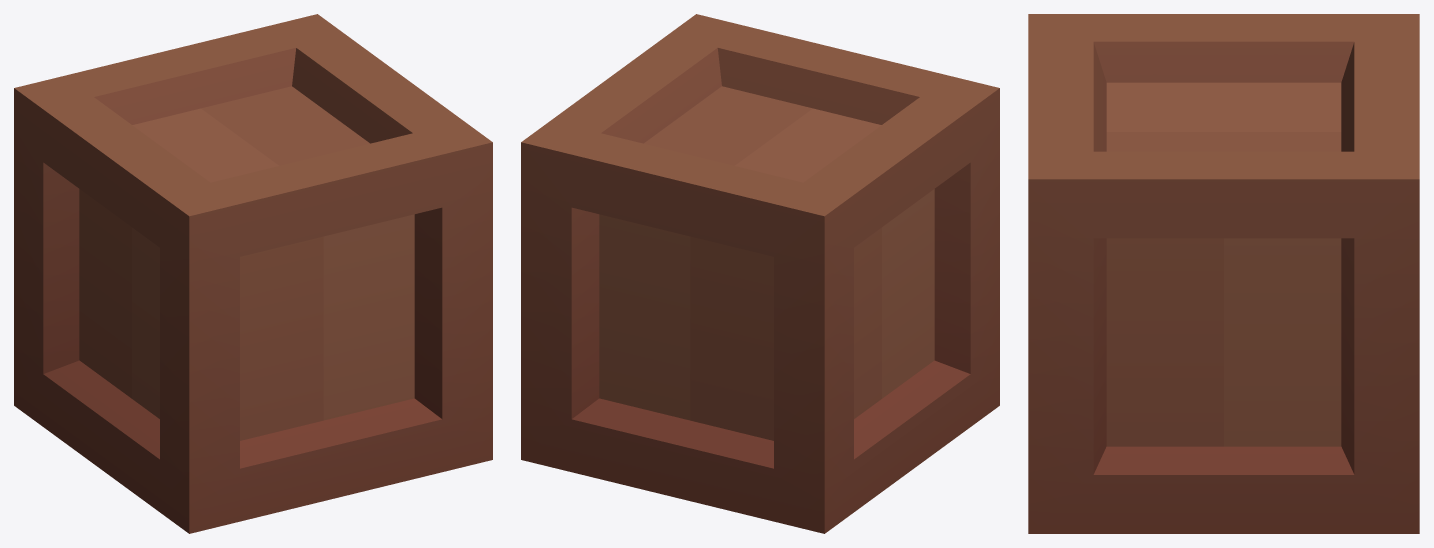
The model's file is H_crate_A_big.glb.
3 views of the same model, side by side, from view 1: azimuth 30°, elevation 25°; view 2: azimuth 150°, elevation 25°; view 3: azimuth 270°, elevation 25° (orthographic). The views are drawn at different scales.
Visible parts, largest first — view 1: crate_A_big; view 2: crate_A_big; view 3: crate_A_big.
Part boxes in pixels (x1,y1,x2,y2): crate_A_big: (14,14,492,533); crate_A_big: (521,14,999,533); crate_A_big: (1028,14,1419,533).
Bounding box in the file's own units: 0.21 × 0.21 × 0.21.
